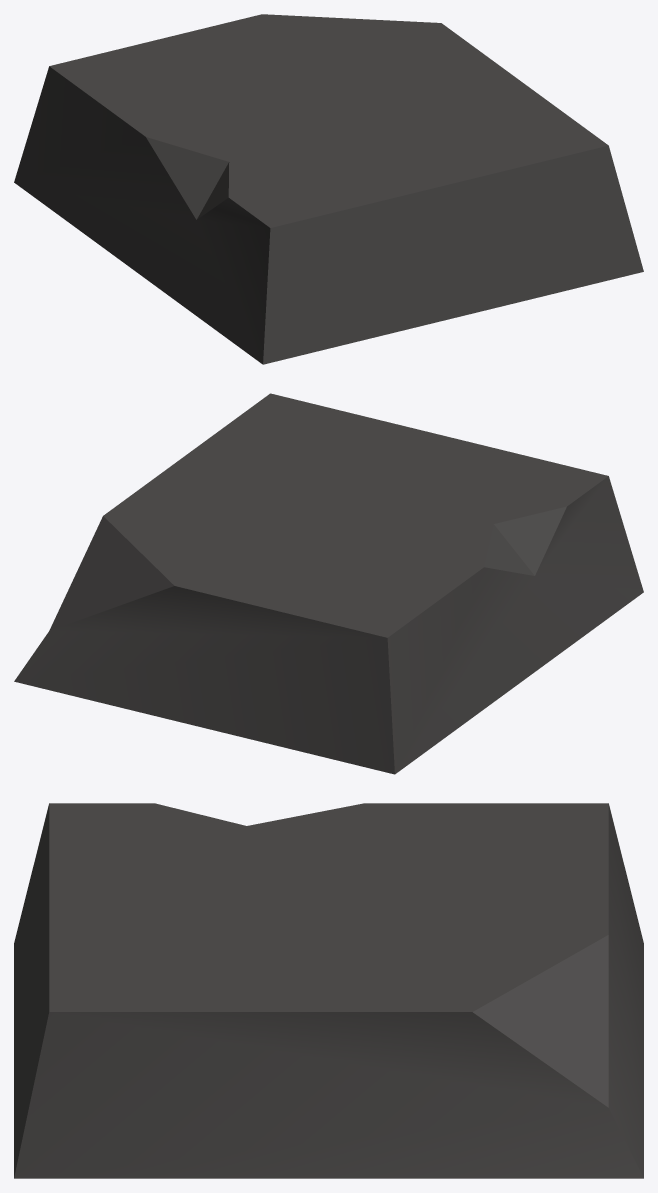
3 views of the same model, one above another, from view 1: azimuth 30°, elevation 25°; view 2: azimuth 150°, elevation 25°; view 3: azimuth 270°, elevation 25° (orthographic). The views are drawn at different scales.
Visible parts, largest first — view 1: Box001; view 2: Box001; view 3: Box001.
Boxes of the visible parts, <box> form: Box001: <box>14,14,643,364</box>; Box001: <box>14,393,643,774</box>; Box001: <box>14,803,643,1178</box>.
Bounding box in the file's own units: 9.51 × 2.89 × 10.77.
